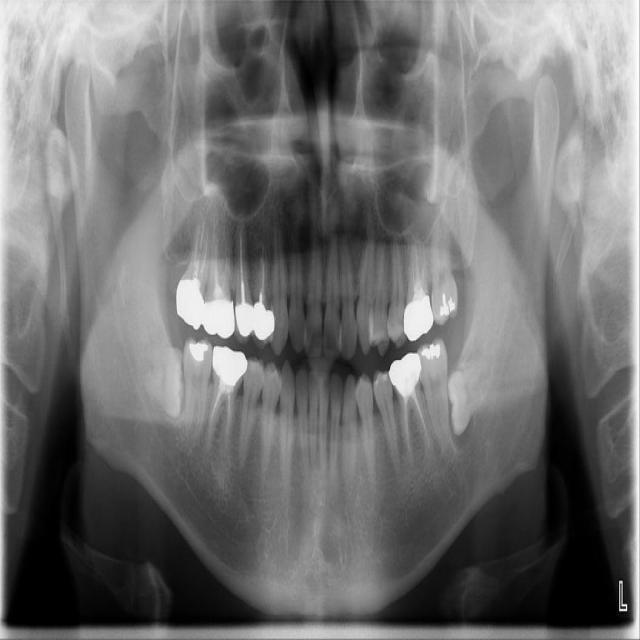Crown: (175, 277, 204, 332), (388, 352, 422, 398), (403, 295, 434, 343), (200, 299, 235, 340), (213, 346, 248, 386), (252, 301, 276, 347), (233, 302, 253, 345)
Filling: (418, 337, 449, 360), (438, 290, 458, 320), (188, 341, 210, 362)
Root Canal Treatment: (417, 393, 434, 453), (208, 391, 222, 443), (216, 231, 227, 285), (410, 243, 419, 292), (405, 405, 412, 457), (214, 229, 220, 285), (225, 396, 231, 451), (418, 242, 426, 282), (200, 236, 207, 280), (191, 228, 198, 266), (238, 226, 242, 285), (259, 255, 265, 291), (199, 228, 205, 258), (194, 258, 199, 275)
impacted tooth: (449, 350, 496, 432), (131, 348, 183, 417)
